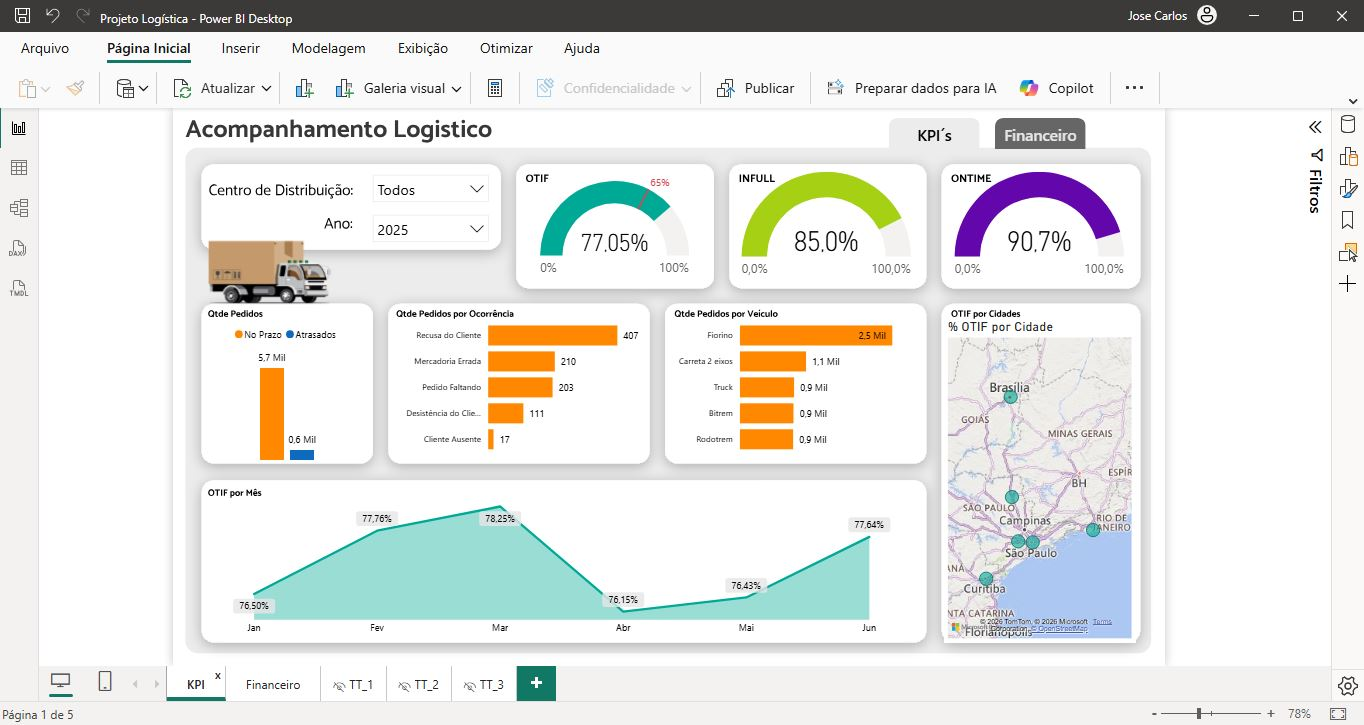

The dashboard page shown, as its layout file describes it:
{"tool":"powerbi","page":{"name":"KPI","canvas":[1280,720],"ordinal":0},"visuals":[{"type":"gauge","fields":{"Y":["Medidas.% OTIF"]},"box":[445,76.5,249.4,150.2],"z":0},{"type":"gauge","fields":{"Y":["Medidas.% INFULL"]},"box":[718.7,76.9,248.5,150.2],"z":1000},{"type":"gauge","fields":{"Y":["Medidas.% ONTIME"]},"box":[994,76.9,248.5,150.2],"z":2000},{"type":"clusteredColumnChart","fields":{"Y":["Medidas.Qtd Pedidos No Prazo","Medidas.Qtd Pedidos Atrasados"]},"box":[36.3,272,222.1,187.4],"z":3000},{"type":"clusteredBarChart","fields":{"Category":["Dim_Status.Motivo"],"Y":["Medidas.Qtd Pedidos COM Ocorrência"]},"box":[282.6,253.9,329.4,205.5],"z":4000},{"type":"clusteredBarChart","fields":{"Category":["Dim_Transporte.Veiculo"],"Y":["Medidas.Qtd Pedidos"]},"box":[640.8,253.9,326.4,205.5],"z":5000},{"type":"areaChart","fields":{"Category":["dCalendario.MesAbrev"],"Y":["Medidas.% OTIF"]},"box":[36.3,483.6,930.9,205.5],"z":6000},{"type":"map","fields":{"Category":["Fato_Pedidos.Cidade"],"Size":["Medidas.% OTIF"]},"box":[994.6,272.6,246.9,416.7],"z":7000},{"type":"slicer","fields":{"Values":["Dim_CD.Nome"]},"box":[248,76,170,50],"z":8000},{"type":"slicer","fields":{"Values":["dCalendario.Ano"]},"box":[248,128.3,170,50],"z":9000},{"type":"actionButton","box":[924.3,12.9,117.1,40],"z":10000},{"type":"actionButton","box":[1060,12.9,117.1,40],"z":10001}]}

Visuals, with their boxes on the page's 1280x720 design canvas (x1, y1, x2, y2). These are canvas units, not pixel positions in the 1364x725 screenshot, which may show the page scaled, cropped or inside an application window:
gauge - Medidas.% OTIF: 445, 76, 694, 227
gauge - Medidas.% INFULL: 719, 77, 967, 227
gauge - Medidas.% ONTIME: 994, 77, 1242, 227
clusteredColumnChart - Medidas.Qtd Pedidos No Prazo x Medidas.Qtd Pedidos Atrasados: 36, 272, 258, 459
clusteredBarChart - Dim_Status.Motivo x Medidas.Qtd Pedidos COM Ocorrência: 283, 254, 612, 459
clusteredBarChart - Dim_Transporte.Veiculo x Medidas.Qtd Pedidos: 641, 254, 967, 459
areaChart - dCalendario.MesAbrev x Medidas.% OTIF: 36, 484, 967, 689
map - Fato_Pedidos.Cidade x Medidas.% OTIF: 995, 273, 1242, 689
slicer - Dim_CD.Nome: 248, 76, 418, 126
slicer - dCalendario.Ano: 248, 128, 418, 178
actionButton: 924, 13, 1041, 53
actionButton: 1060, 13, 1177, 53
